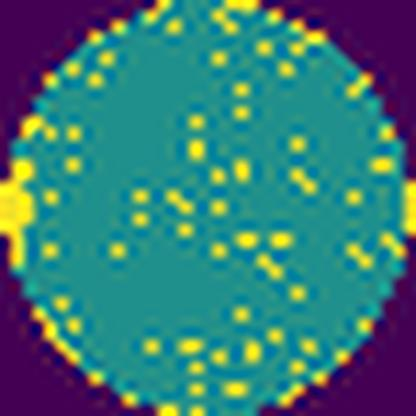Edge-Loc: (0, 162, 39, 272)
